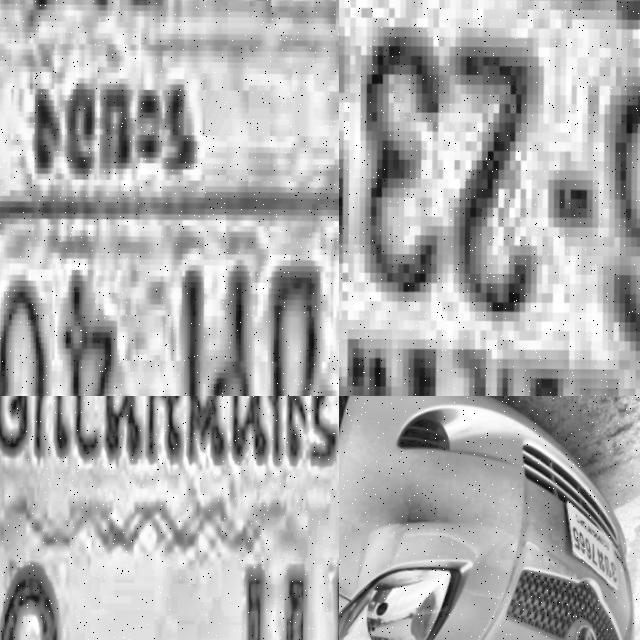license-plate: (0, 0, 339, 396), (339, 0, 640, 396), (0, 396, 339, 640), (561, 484, 630, 586)
